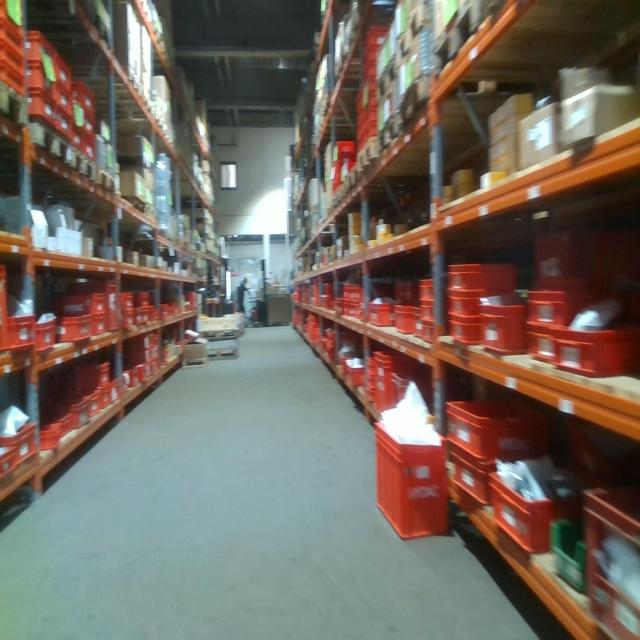pallet: (429, 1, 482, 85), (403, 5, 439, 69), (26, 120, 72, 163), (1, 80, 31, 137), (404, 78, 436, 130), (67, 145, 97, 192), (380, 105, 403, 161), (92, 167, 119, 201), (377, 61, 399, 98), (204, 343, 240, 365), (359, 139, 379, 178), (345, 162, 360, 200), (198, 329, 241, 342)
pallet_truck: (246, 251, 270, 329), (217, 256, 234, 311)
small_load_carrier: (373, 415, 449, 550), (577, 477, 638, 637), (489, 465, 574, 561), (530, 224, 630, 288), (446, 400, 547, 462), (550, 323, 638, 387), (483, 288, 535, 361), (527, 280, 597, 329), (390, 361, 433, 427), (3, 410, 37, 474), (85, 278, 120, 340), (50, 312, 92, 358), (442, 257, 498, 289), (376, 342, 396, 425), (445, 288, 498, 317), (57, 289, 107, 315), (52, 395, 86, 432), (527, 329, 560, 366), (70, 359, 112, 388), (71, 73, 98, 117), (22, 32, 53, 70), (8, 312, 34, 355), (0, 19, 25, 62), (23, 62, 54, 95), (24, 92, 55, 124), (1, 38, 24, 81), (445, 317, 484, 342), (35, 317, 58, 354), (53, 83, 73, 125), (2, 262, 11, 355), (34, 422, 61, 452), (397, 299, 419, 334), (46, 412, 69, 445), (1, 66, 24, 99), (1, 3, 27, 31), (53, 55, 72, 93), (53, 111, 76, 141), (82, 392, 101, 428), (346, 358, 367, 387), (366, 24, 390, 49), (1, 445, 15, 483), (369, 305, 394, 326), (417, 272, 435, 301), (115, 311, 135, 337), (66, 127, 86, 153), (116, 285, 135, 311), (77, 107, 95, 134), (331, 141, 353, 163), (100, 382, 114, 415), (82, 131, 95, 164), (129, 347, 151, 365), (421, 302, 435, 323), (95, 315, 107, 339), (363, 63, 377, 83), (136, 289, 151, 307), (367, 352, 379, 374), (127, 335, 151, 346), (365, 122, 377, 143), (421, 323, 434, 342), (133, 304, 144, 324), (135, 366, 153, 378), (365, 49, 378, 64), (365, 81, 376, 96), (365, 93, 374, 111), (367, 109, 376, 124), (144, 307, 151, 326), (370, 384, 376, 403), (354, 288, 361, 303), (347, 288, 354, 301), (370, 372, 373, 384)
